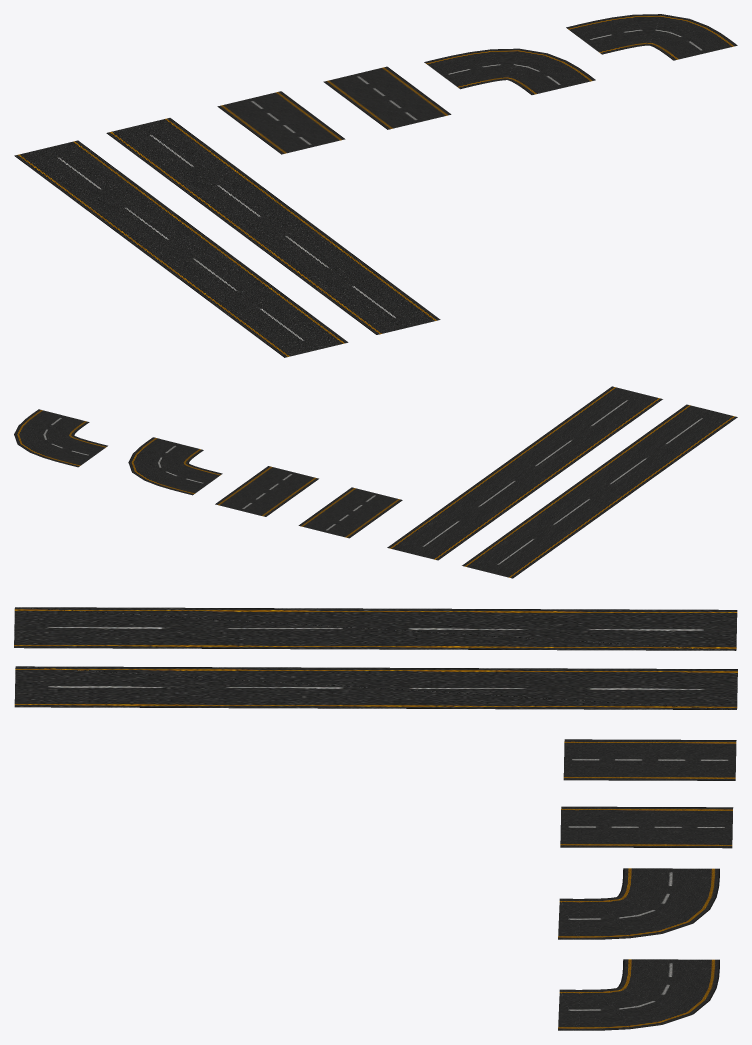
The model's file is road pack.fbx.
3 views of the same model, one above another, from view 1: azimuth 30°, elevation 25°; view 2: azimuth 150°, elevation 25°; view 3: azimuth 270°, elevation 25° (orthographic). The views are drawn at different scales.
Parts seen in each view (by area): view 1: node_cab3f8ec_876c_489d_adb8_465ff816fee6_mesh0, node_269cecae_a68c_4af3_be81_d7a06a5bbb9f_mesh0, node_11605522_03da_494c_93a4_a0aa4eadcf9c_mesh0, node_74c42eba_6329_46f9_a0dd_080e391c623b_mesh0, node_146037a2_51cc_4f5c_a342_029b6110aa00_mesh0, node_59ec46e0_7bb8_4a59_9478_5822a6ddae55_mesh0; view 2: node_269cecae_a68c_4af3_be81_d7a06a5bbb9f_mesh0, node_cab3f8ec_876c_489d_adb8_465ff816fee6_mesh0, node_11605522_03da_494c_93a4_a0aa4eadcf9c_mesh0, node_74c42eba_6329_46f9_a0dd_080e391c623b_mesh0, node_59ec46e0_7bb8_4a59_9478_5822a6ddae55_mesh0, node_146037a2_51cc_4f5c_a342_029b6110aa00_mesh0; view 3: node_cab3f8ec_876c_489d_adb8_465ff816fee6_mesh0, node_269cecae_a68c_4af3_be81_d7a06a5bbb9f_mesh0, node_11605522_03da_494c_93a4_a0aa4eadcf9c_mesh0, node_74c42eba_6329_46f9_a0dd_080e391c623b_mesh0, node_59ec46e0_7bb8_4a59_9478_5822a6ddae55_mesh0, node_146037a2_51cc_4f5c_a342_029b6110aa00_mesh0.
Part boxes in pixels (box(x1,y1,x2,y2)): node_cab3f8ec_876c_489d_adb8_465ff816fee6_mesh0: box(14, 140, 348, 357); node_269cecae_a68c_4af3_be81_d7a06a5bbb9f_mesh0: box(106, 118, 440, 334); node_11605522_03da_494c_93a4_a0aa4eadcf9c_mesh0: box(566, 14, 737, 60); node_74c42eba_6329_46f9_a0dd_080e391c623b_mesh0: box(424, 48, 595, 94); node_146037a2_51cc_4f5c_a342_029b6110aa00_mesh0: box(323, 66, 451, 129); node_59ec46e0_7bb8_4a59_9478_5822a6ddae55_mesh0: box(217, 91, 345, 154); node_269cecae_a68c_4af3_be81_d7a06a5bbb9f_mesh0: box(387, 386, 662, 560); node_cab3f8ec_876c_489d_adb8_465ff816fee6_mesh0: box(462, 404, 737, 578); node_11605522_03da_494c_93a4_a0aa4eadcf9c_mesh0: box(14, 409, 107, 467); node_74c42eba_6329_46f9_a0dd_080e391c623b_mesh0: box(128, 437, 222, 495); node_59ec46e0_7bb8_4a59_9478_5822a6ddae55_mesh0: box(298, 487, 402, 538); node_146037a2_51cc_4f5c_a342_029b6110aa00_mesh0: box(215, 466, 318, 516); node_cab3f8ec_876c_489d_adb8_465ff816fee6_mesh0: box(14, 607, 737, 650); node_269cecae_a68c_4af3_be81_d7a06a5bbb9f_mesh0: box(14, 666, 737, 709); node_11605522_03da_494c_93a4_a0aa4eadcf9c_mesh0: box(558, 959, 719, 1030); node_74c42eba_6329_46f9_a0dd_080e391c623b_mesh0: box(558, 868, 719, 939); node_59ec46e0_7bb8_4a59_9478_5822a6ddae55_mesh0: box(563, 739, 736, 780); node_146037a2_51cc_4f5c_a342_029b6110aa00_mesh0: box(560, 806, 733, 848).
Size of the model in its own units: 414 by 4.62e-05 by 299.
1 material, 1 textured.
